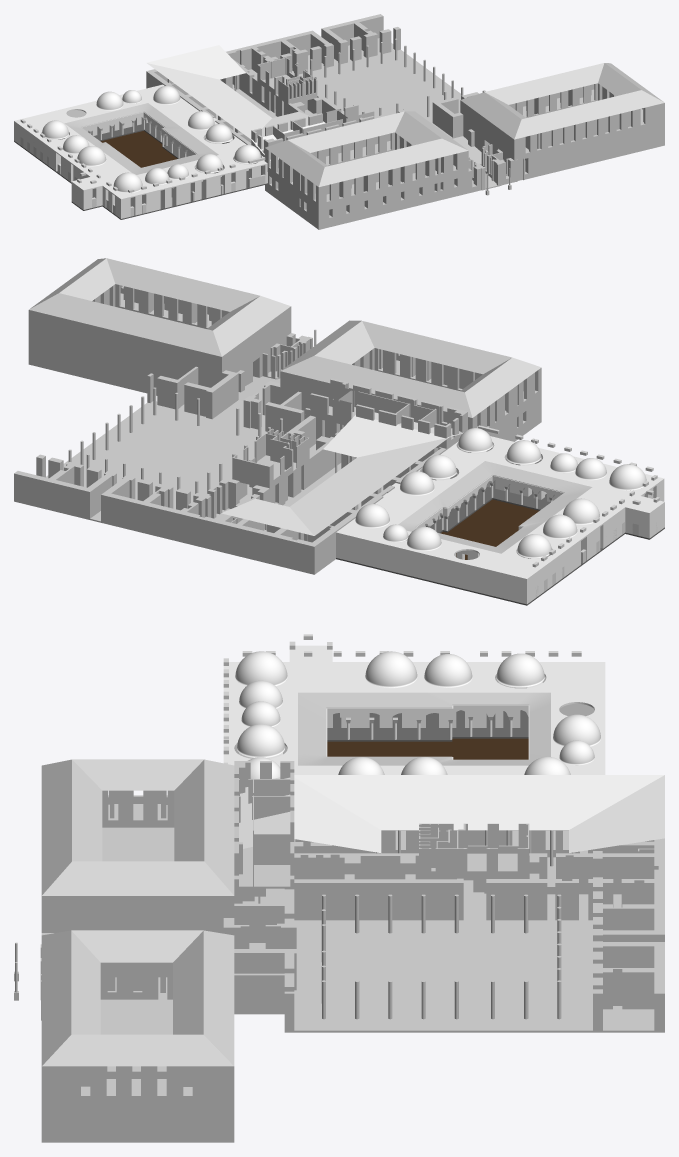
3 renders of one model, top to bottom at view 1: azimuth 30°, elevation 25°; view 2: azimuth 150°, elevation 25°; view 3: azimuth 270°, elevation 25°, orthographic. The views are drawn at different scales.
Visible parts, largest first — view 1: Layer:walls (×2), Rectangle098, Rectangle101, E_Walls, Line060, Line035, E_Walls_Upper, Plane001, A_Walls_B, A_Walls_A, D_Walls_Lower, D_Walls_Upper (+26 smaller); view 2: E_Walls, Layer:walls (×2), D_Walls_Lower, Rectangle101, Line060, Rectangle098, Line035, E_Walls_Upper, Plane001, D_Walls_Upper, A_Walls_B, Line059 (+19 smaller); view 3: Line060, Plane001, D_Walls_Lower, Rectangle098, Rectangle101, E_Walls, Line035, Layer:walls (×2), A_Walls_B, D_Walls_Upper, E_Walls_Upper, Line059 (+19 smaller).
Part boxes in pixels (box(x1,y1,x2,y2)): Layer:walls (×2): box(14, 89, 664, 218); Rectangle098: box(265, 111, 468, 186); Rectangle101: box(460, 63, 664, 139); E_Walls: box(254, 14, 485, 143); Line060: box(292, 38, 460, 138); Line035: box(14, 84, 270, 200); E_Walls_Upper: box(460, 83, 664, 160); Plane001: box(146, 45, 324, 161); A_Walls_B: box(264, 132, 468, 207); A_Walls_A: box(265, 144, 468, 228); D_Walls_Lower: box(146, 45, 377, 174); D_Walls_Upper: box(251, 57, 374, 156); E_Walls: box(14, 366, 310, 539); Layer:walls (×2): box(28, 294, 664, 604); D_Walls_Lower: box(177, 407, 467, 573); Rectangle101: box(29, 258, 290, 356); Line060: box(14, 400, 267, 541); Rectangle098: box(280, 320, 541, 417); Line035: box(336, 436, 664, 580); E_Walls_Upper: box(28, 284, 291, 374); Plane001: box(221, 412, 463, 535); D_Walls_Upper: box(232, 378, 467, 488); A_Walls_B: box(280, 348, 541, 431); Line059: box(398, 461, 592, 553); Line060: box(234, 920, 664, 1032); Plane001: box(239, 775, 664, 852); D_Walls_Lower: box(234, 830, 664, 920); Rectangle098: box(41, 759, 234, 895); Rectangle101: box(41, 930, 234, 1066); E_Walls: box(223, 883, 664, 1030); Line035: box(223, 645, 605, 774); Layer:walls (×2): box(41, 676, 594, 1140); A_Walls_B: box(41, 790, 234, 932); D_Walls_Upper: box(234, 761, 529, 887); E_Walls_Upper: box(41, 962, 234, 1103); Line059: box(298, 692, 550, 765).
Bounding box in the file's own units: 12857 × 1276 × 7949.
